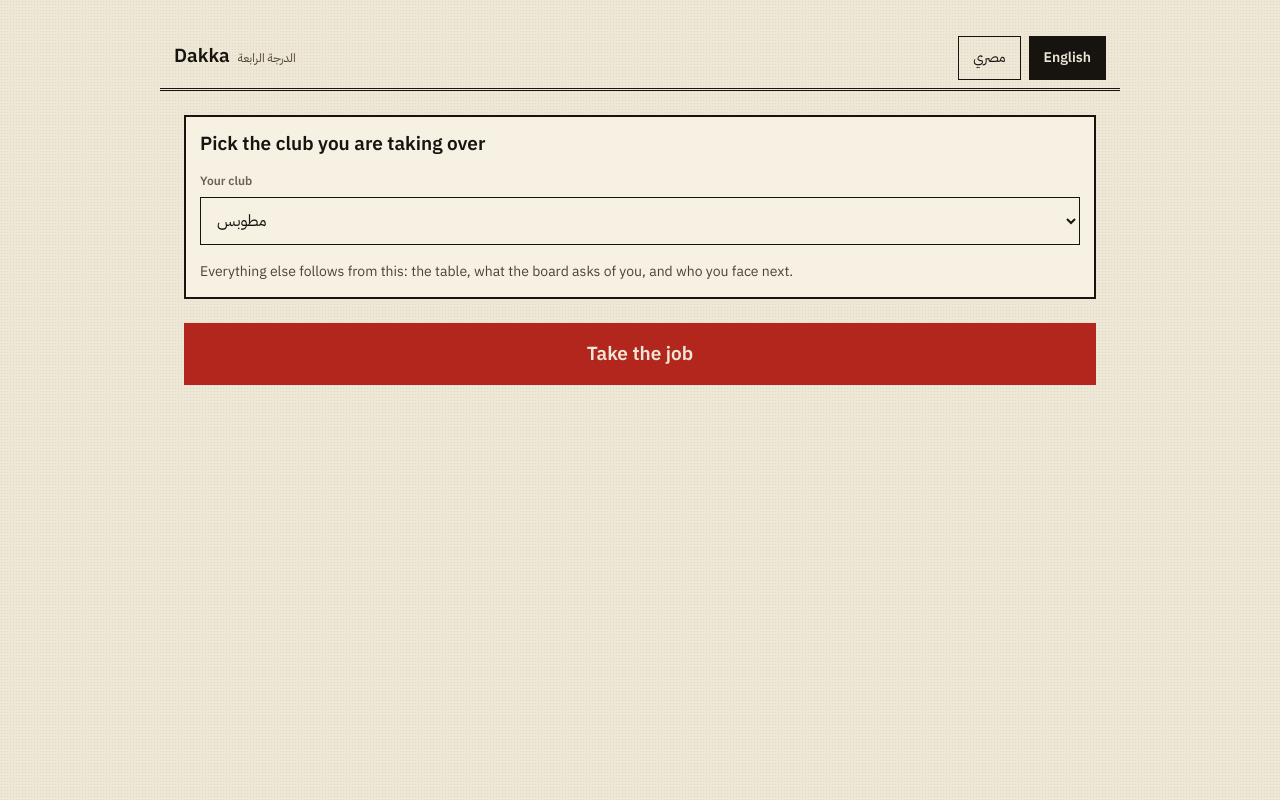
Scenario: the engine is asked for exactly the matches that are played › asks for nothing at all when the manager is only looking
Click the button "Take the job". click: coordinates (640, 354)
box: x1=184 y1=323 x2=1096 y2=384
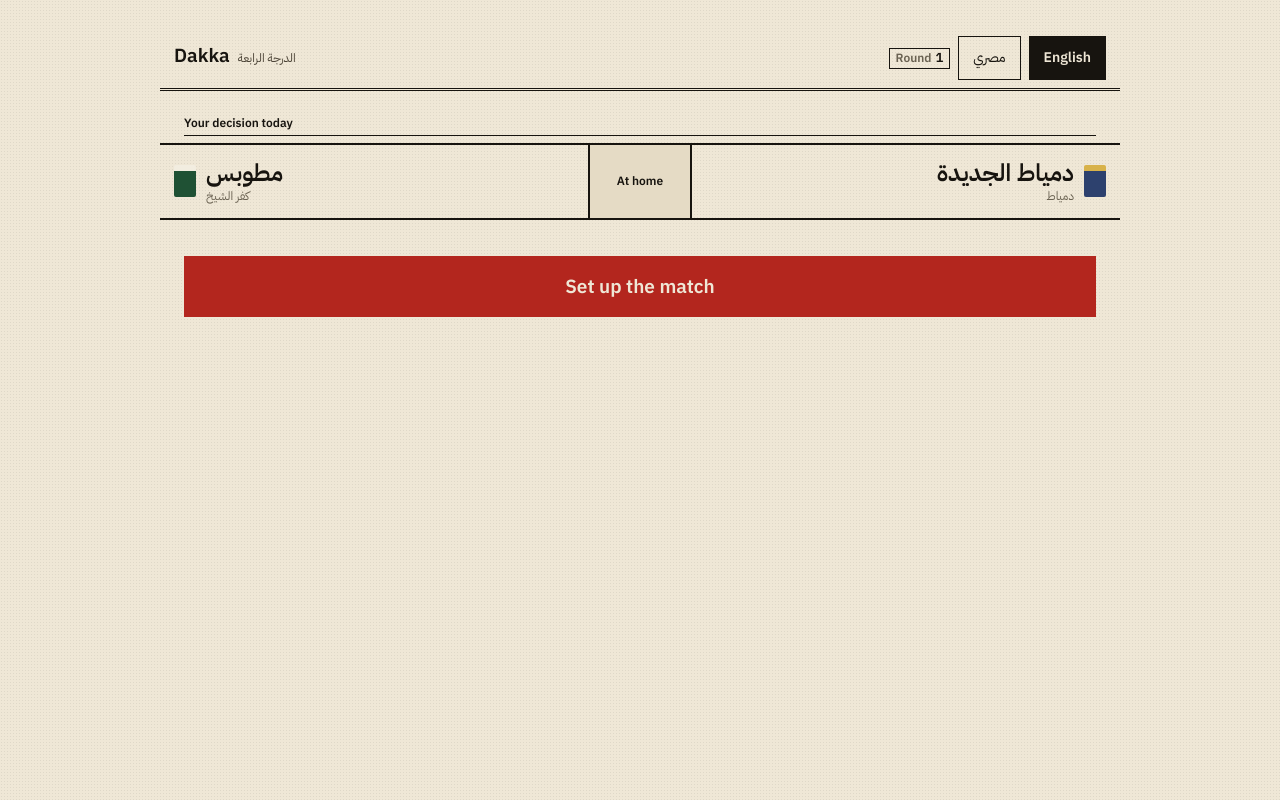
Expected: the button "Set up the match" is shown, x1=184 y1=256 x2=1096 y2=317
